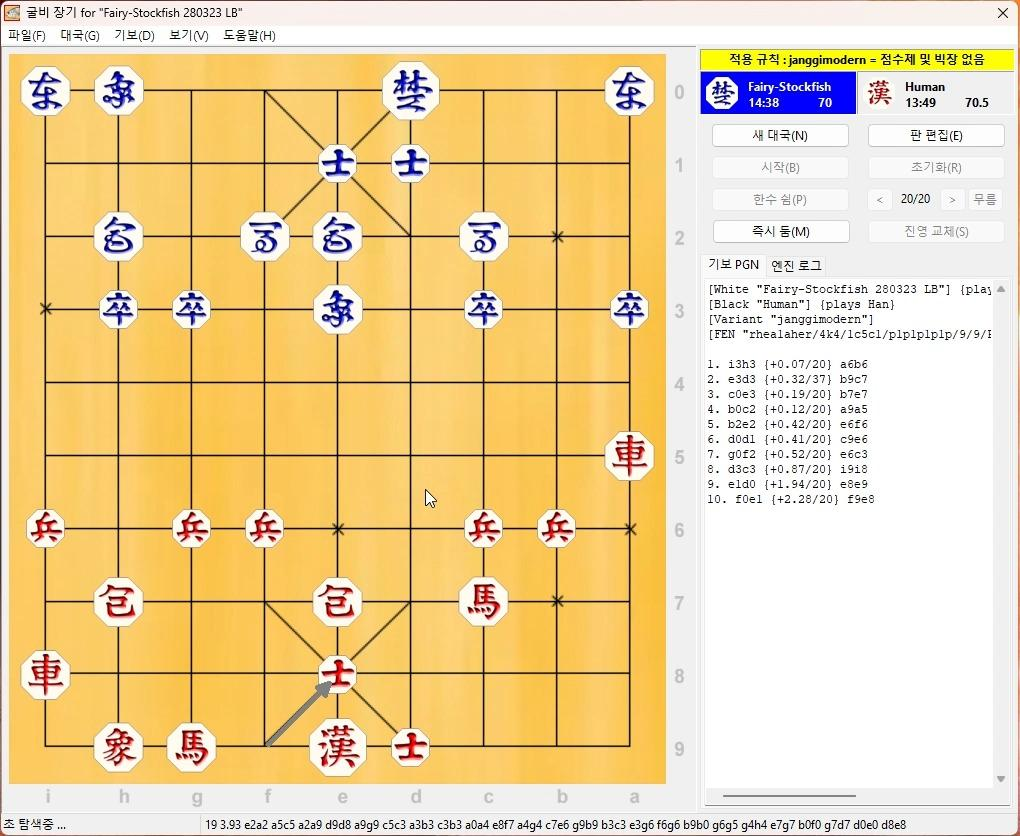cha_green: (603, 68, 653, 116), (21, 70, 69, 114)
cha_red: (604, 433, 655, 479), (21, 654, 71, 698)
jol_green: (466, 293, 505, 329), (171, 292, 210, 328), (610, 291, 649, 326), (98, 293, 136, 328)
jol_red: (534, 507, 573, 545), (463, 510, 502, 547), (24, 512, 65, 547), (175, 512, 216, 547), (243, 512, 283, 547)
ma_green: (241, 215, 291, 260), (459, 215, 508, 260)
ma_red: (458, 575, 510, 626), (166, 726, 217, 771)
po_green: (314, 214, 364, 260), (93, 214, 142, 259)
po_red: (314, 579, 363, 625), (95, 579, 144, 623)
sa_green: (319, 144, 359, 184), (391, 144, 433, 181)
sa_red: (319, 655, 360, 692), (390, 729, 432, 764)
sang_green: (94, 68, 144, 114), (315, 285, 364, 330)
sang_red: (92, 725, 145, 770)
wang_green: (382, 64, 439, 117)
wang_red: (307, 719, 368, 775)
